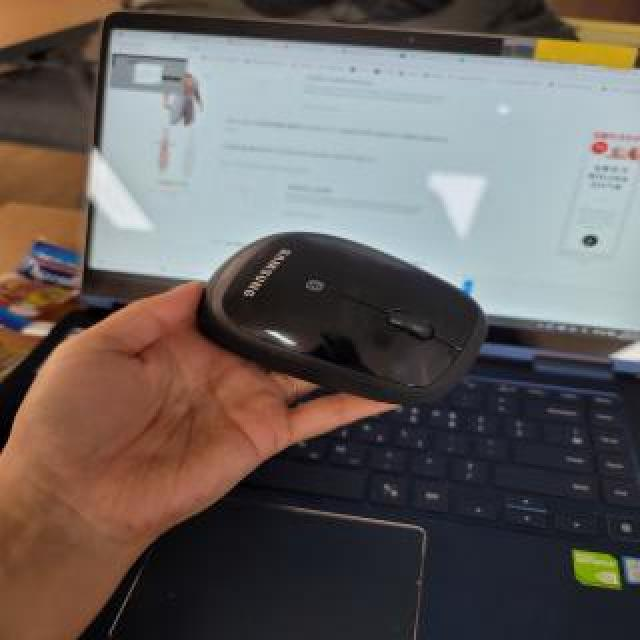laptop_computer: (74, 6, 640, 640)
mouse: (159, 205, 490, 423)
